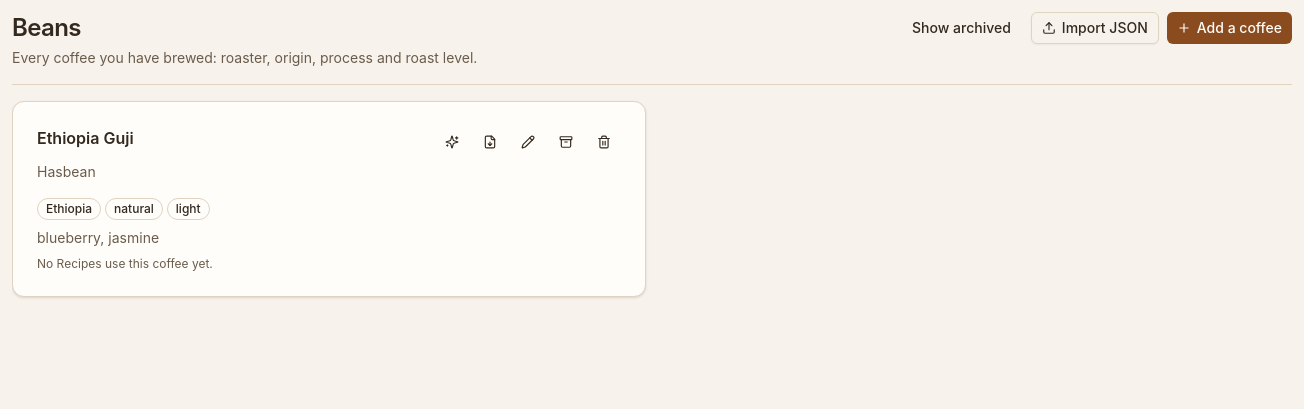
BeansPage › deletes a coffee nobody used, after asking
Step 1. Click the button named "Delete Ethiopia Guji" → (604, 142), box 587,126 -> 621,158
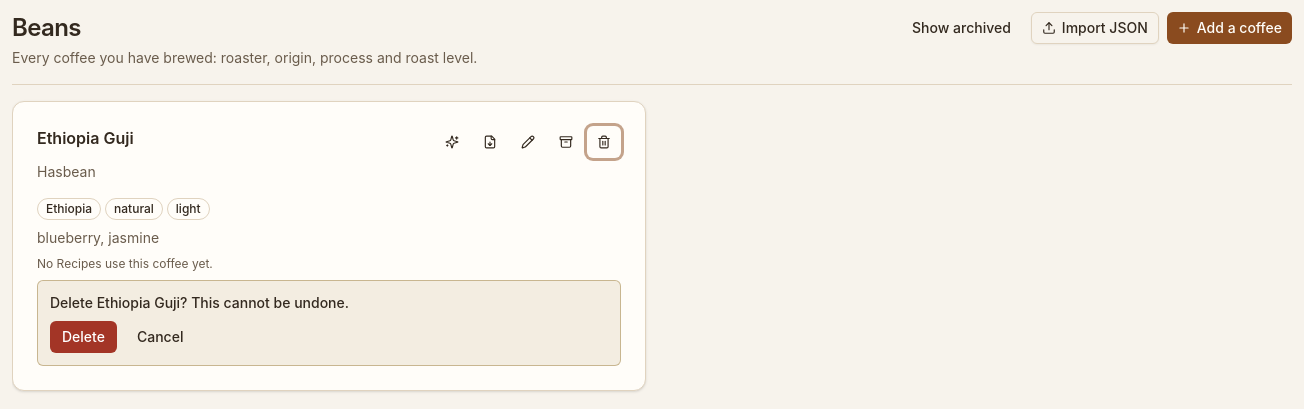
Now the element with test id "bean-delete-confirm" shows "Delete Ethiopia Guji? This cannot be undone.", box 37,280 -> 621,366
Step 2. Click the button "Delete" → (83, 337), box 50,321 -> 117,353
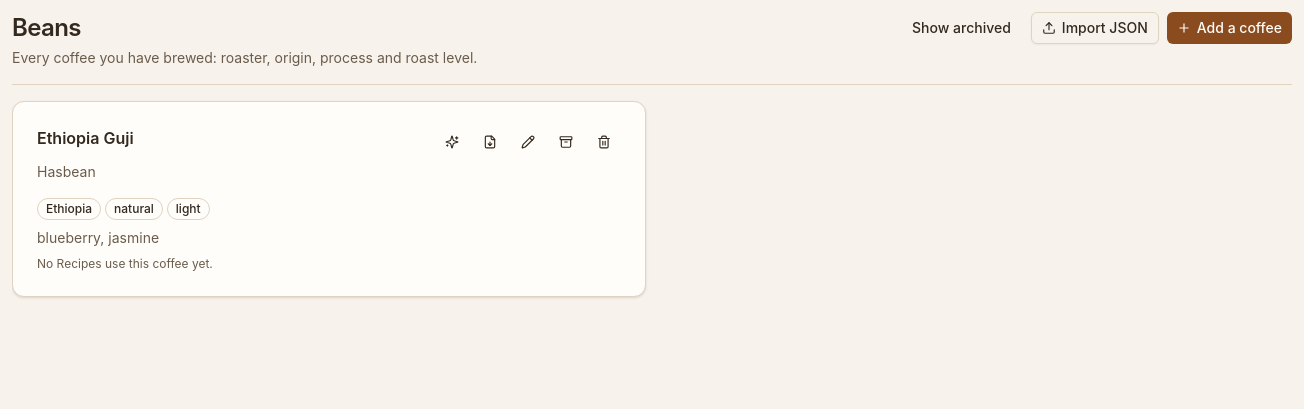
Now the element with test id "bean-delete-confirm" is gone
